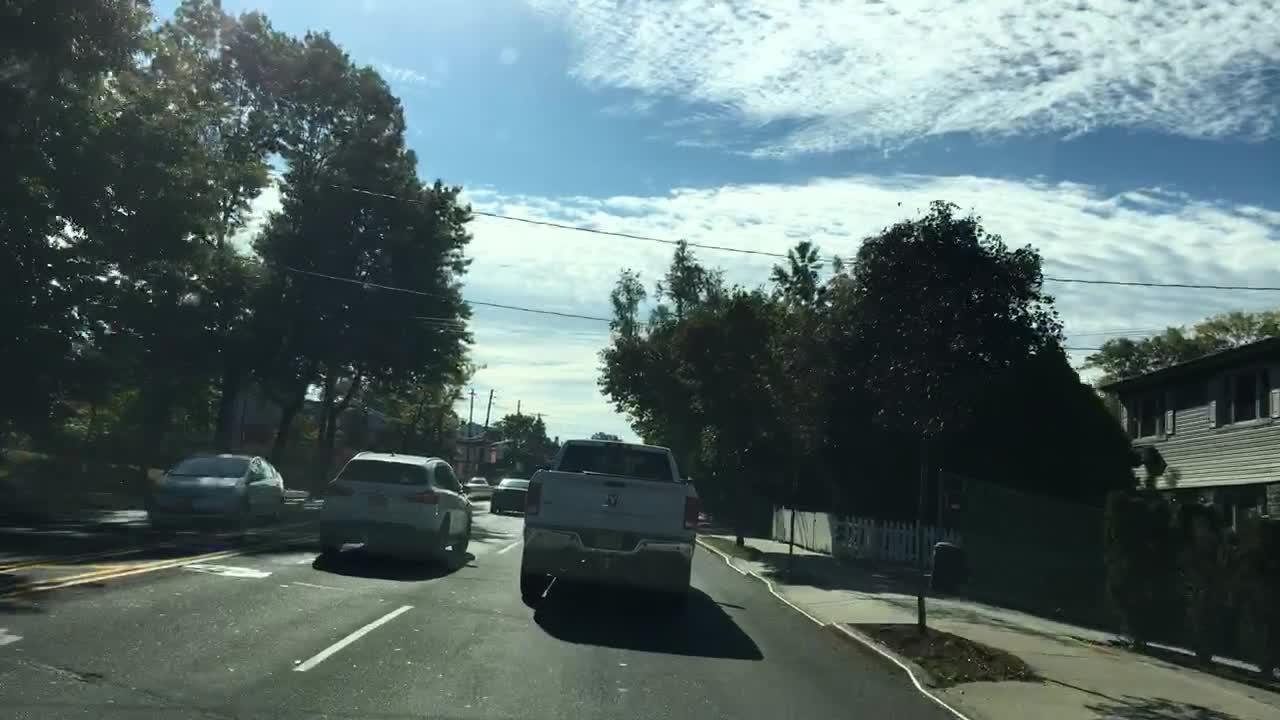ram: (606, 491, 620, 508)
